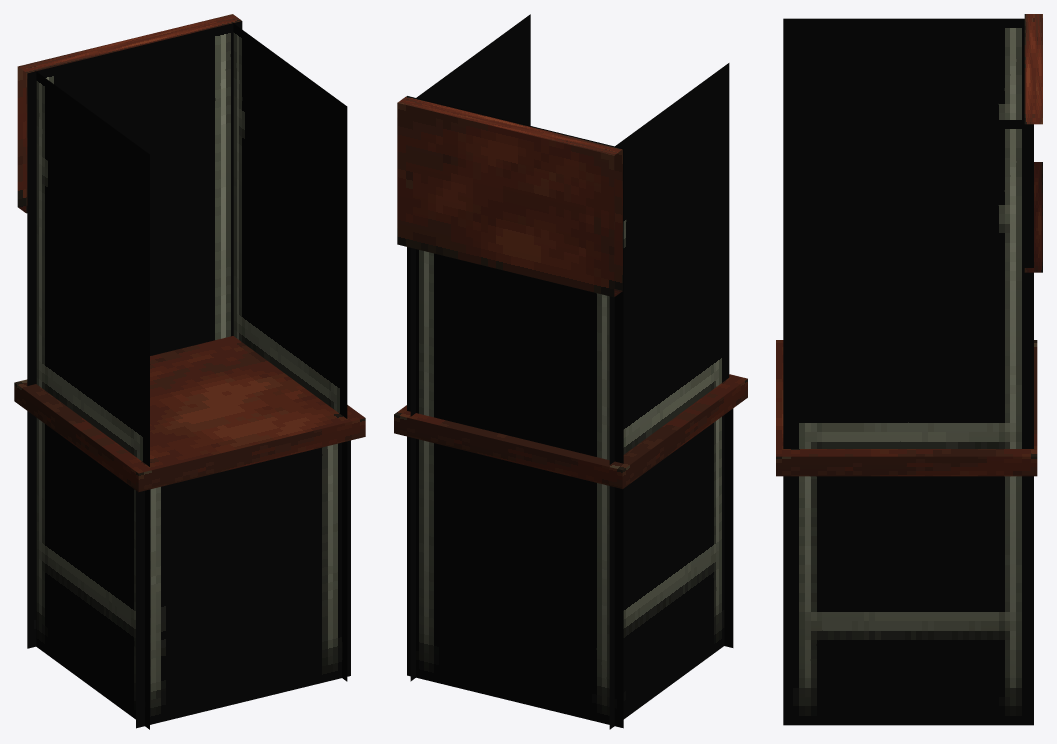
Rendered from prop_chair-2.glb.
3 renders of one model, left to right at view 1: azimuth 30°, elevation 25°; view 2: azimuth 150°, elevation 25°; view 3: azimuth 270°, elevation 25°, orthographic. The views are drawn at different scales.
Visible parts, largest first — view 1: prop_chair-2; view 2: prop_chair-2; view 3: prop_chair-2.
Part boxes in pixels (x1,y1,x2,y2): prop_chair-2: [14, 14, 365, 729]; prop_chair-2: [394, 14, 747, 729]; prop_chair-2: [776, 14, 1042, 725].
Size of the model in its own units: 0.3952 by 0.9568 by 0.3822.
Materials: 2 (2 with a texture image).
